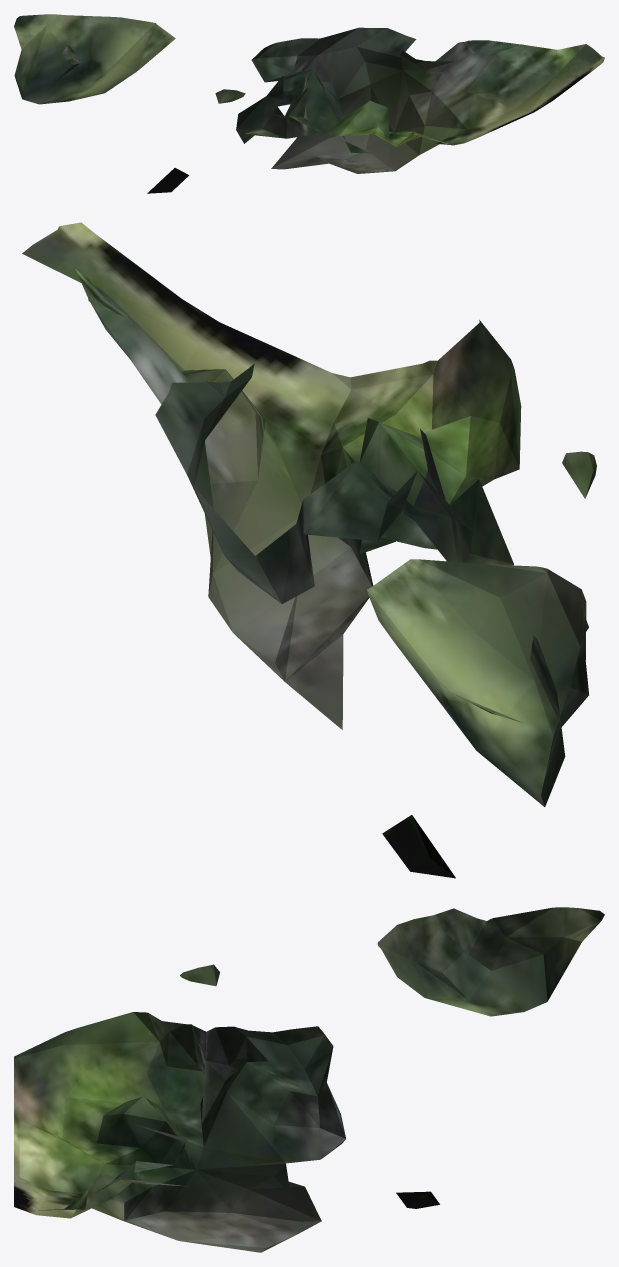
3 views of the same model, one above another, from view 1: azimuth 30°, elevation 25°; view 2: azimuth 150°, elevation 25°; view 3: azimuth 270°, elevation 25° (orthographic). The views are drawn at different scales.
Size of the model in its own units: 57.71 by 19.73 by 45.82.
1 material, 1 textured.
